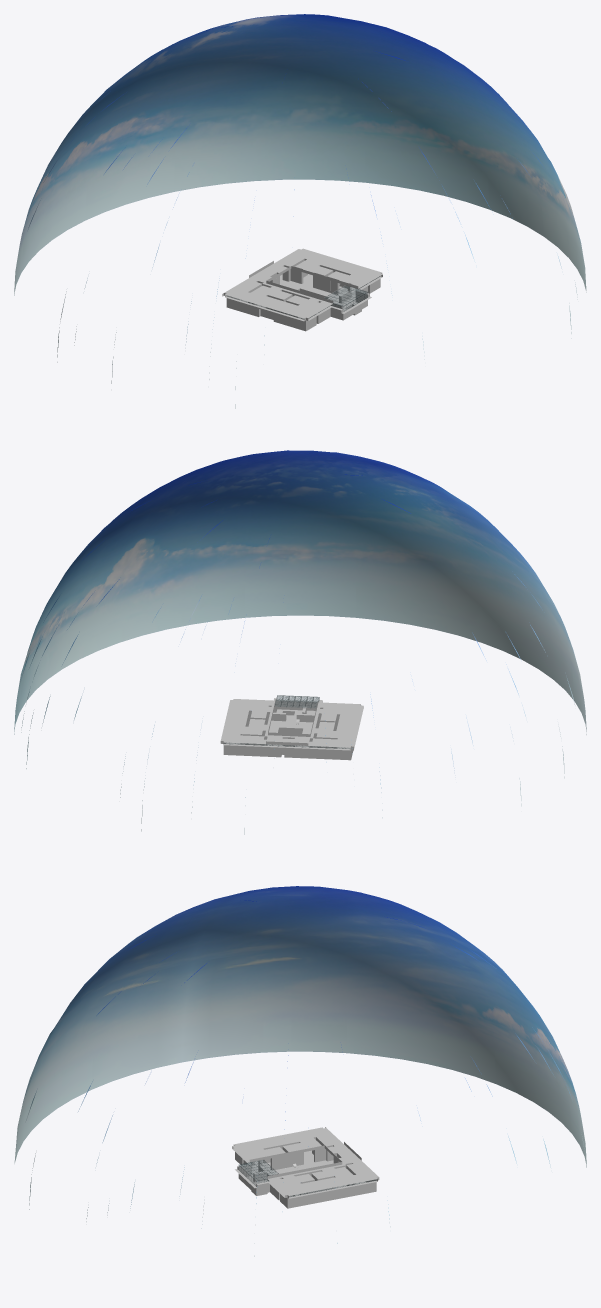
3 renders of one model, top to bottom at view 1: azimuth 30°, elevation 25°; view 2: azimuth 150°, elevation 25°; view 3: azimuth 270°, elevation 25°, orthographic.
Visible parts, largest first — view 1: Skybox, Pool_Day.near., Pool_Day.far., Window_Alpha; view 2: Skybox, Pool_Day.near., Pool_Day.far., Window_Alpha; view 3: Skybox, Pool_Day.near., Pool_Day.far., Window_Alpha.
Boxes of the visible parts, <box> form: Skybox: <box>14,14,586,408</box>; Pool_Day.near.: <box>235,248,381,331</box>; Pool_Day.far.: <box>222,254,382,330</box>; Window_Alpha: <box>227,276,380,319</box>; Skybox: <box>14,450,586,834</box>; Pool_Day.near.: <box>220,698,360,759</box>; Pool_Day.far.: <box>220,698,363,760</box>; Window_Alpha: <box>223,695,350,748</box>; Skybox: <box>14,886,586,1256</box>; Pool_Day.near.: <box>232,1137,378,1207</box>; Pool_Day.far.: <box>232,1127,379,1208</box>; Window_Alpha: <box>238,1160,376,1196</box>.
Bounding box in the file's own units: 127 × 65.33 × 127.
